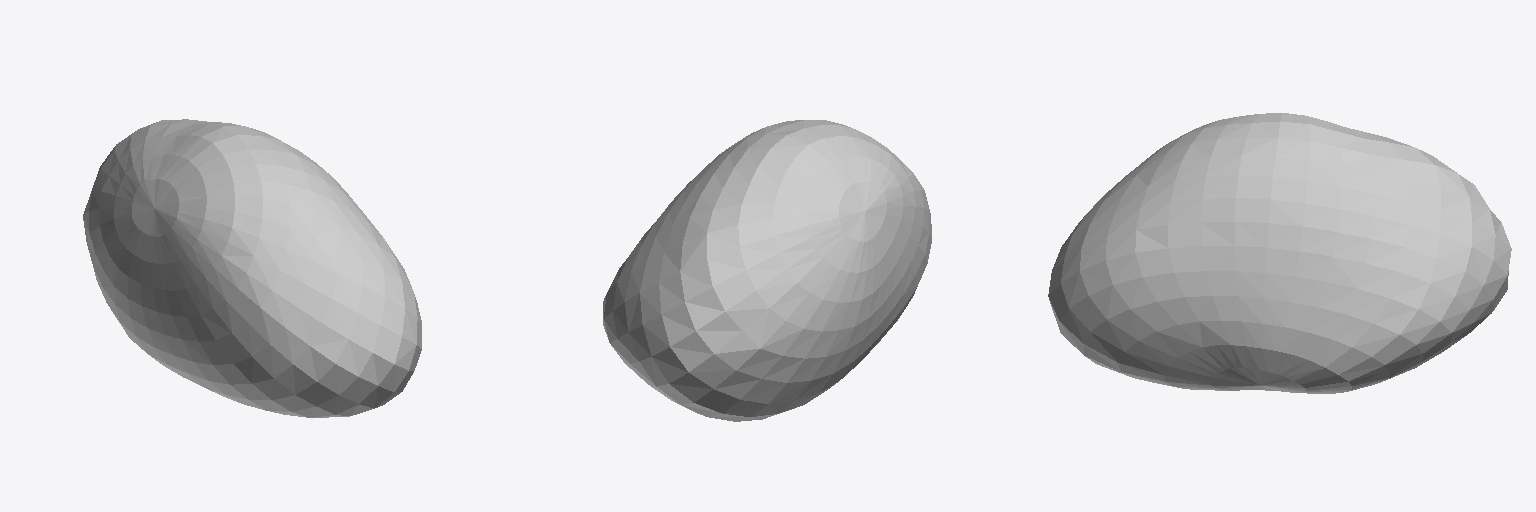
The model's file is Boulder1.obj.
3 views of the same model, side by side, from view 1: azimuth 30°, elevation 25°; view 2: azimuth 150°, elevation 25°; view 3: azimuth 270°, elevation 25° (orthographic).
Visible parts, largest first — view 1: Boulder1; view 2: Boulder1; view 3: Boulder1.
Part boxes in pixels (left/top/right/bottom): Boulder1: left=83, top=119, right=421, bottom=417; Boulder1: left=603, top=120, right=931, bottom=421; Boulder1: left=1048, top=113, right=1511, bottom=393.
Bounding box in the file's own units: 15.08 × 15.51 × 25.99.